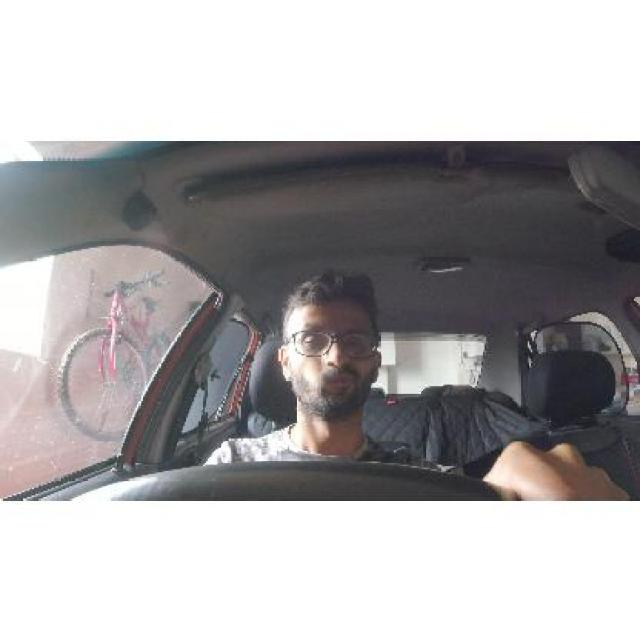person: (277, 262, 388, 432)
